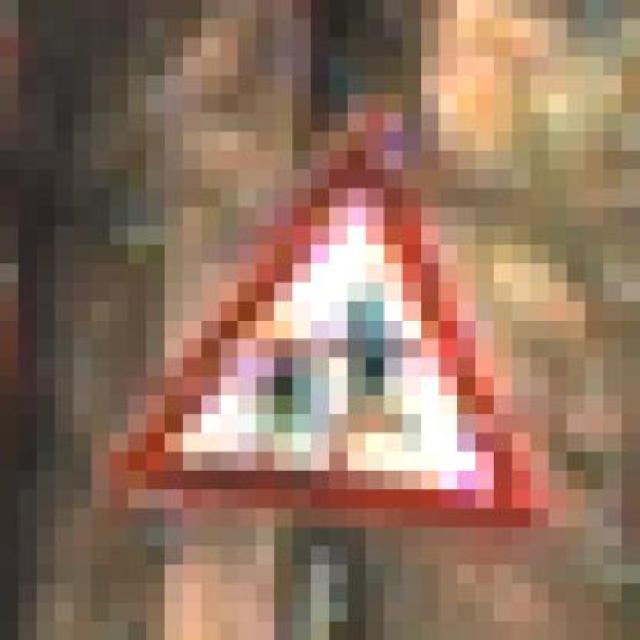Beware of children: (73, 94, 549, 546)
